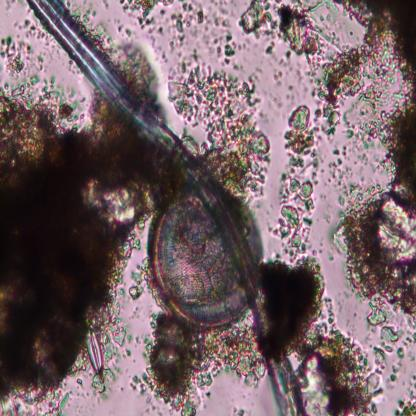Background material: (0, 92, 149, 407), (324, 116, 416, 316), (167, 47, 270, 201), (139, 318, 258, 410), (312, 21, 394, 141), (346, 0, 416, 117), (255, 253, 328, 352), (278, 101, 318, 258), (311, 322, 376, 414), (240, 4, 336, 62), (126, 0, 213, 52), (362, 302, 403, 405), (0, 23, 47, 93), (328, 143, 374, 206), (127, 255, 156, 307), (210, 12, 236, 65), (268, 64, 300, 104), (395, 372, 416, 414), (125, 370, 148, 398)
Diatom: (154, 188, 264, 328), (82, 326, 104, 381)
Microfibre: (26, 0, 309, 414)
